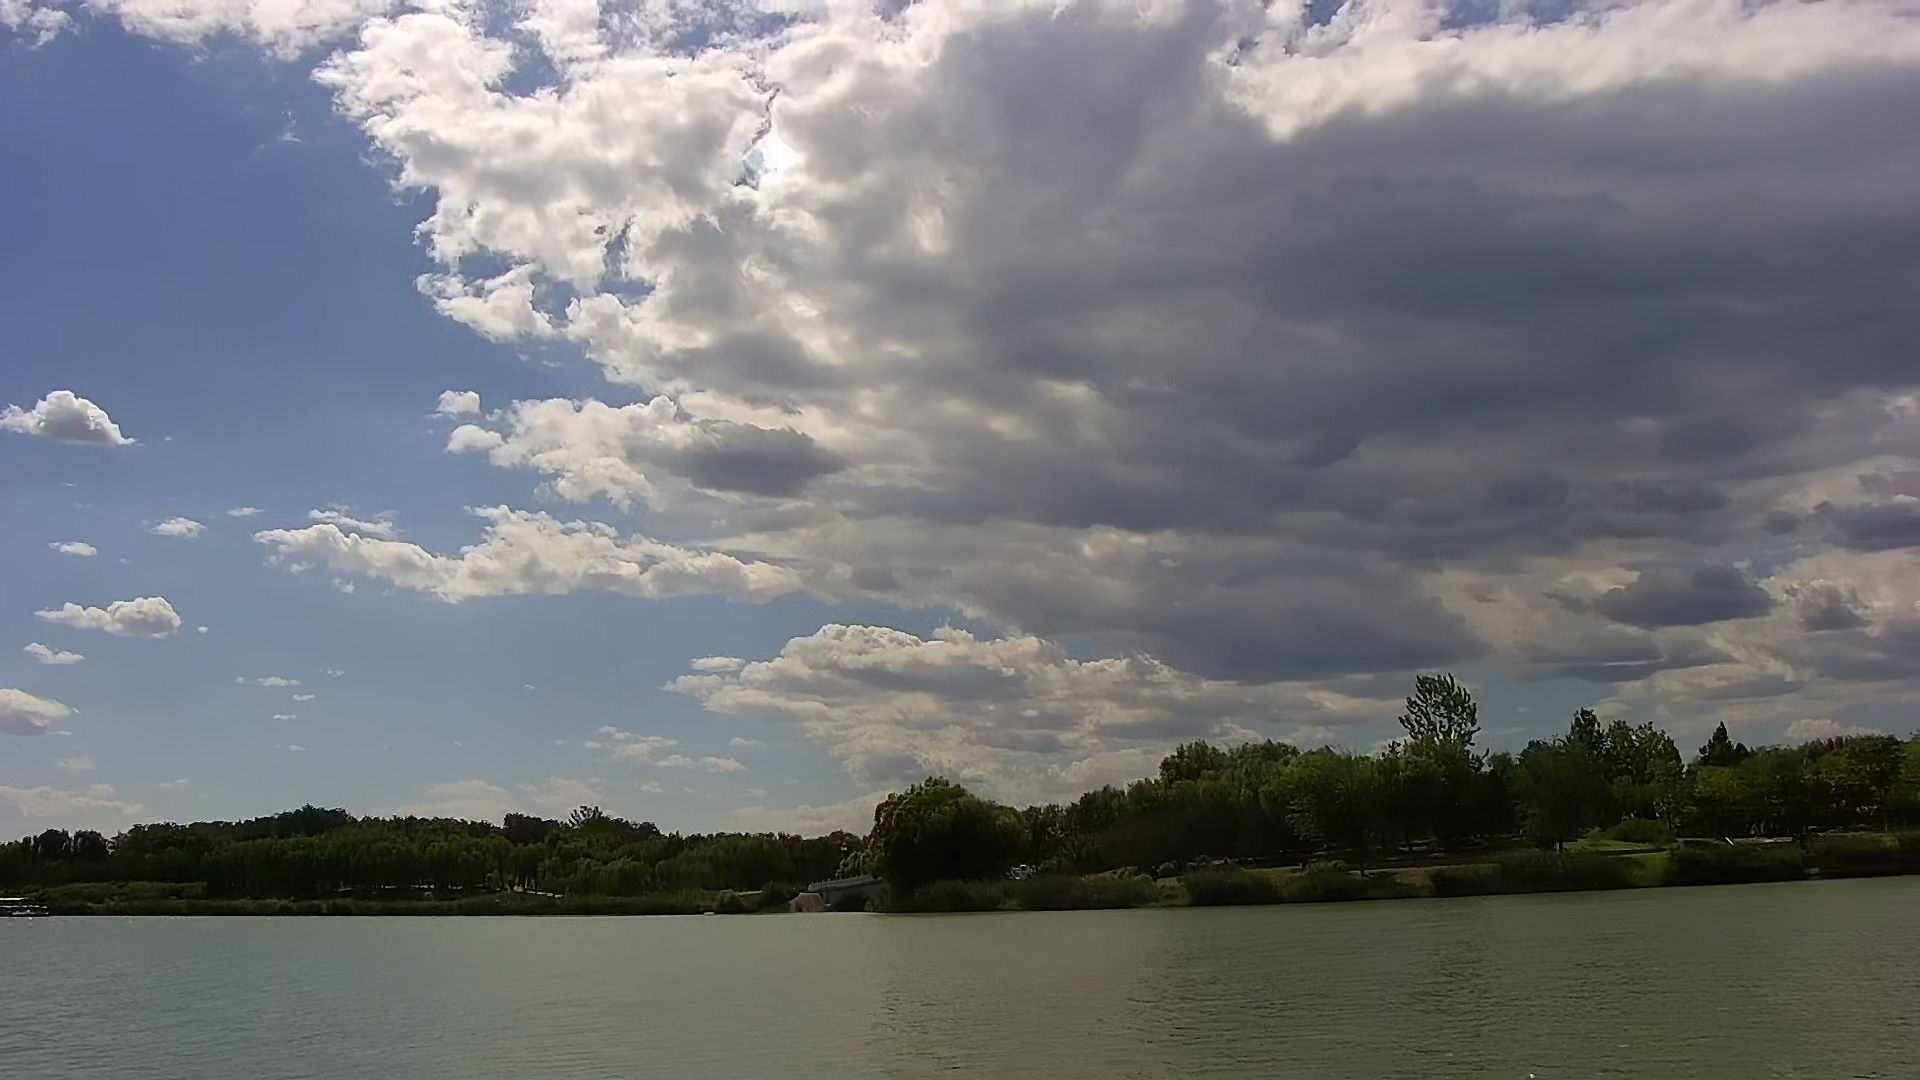harbor: (5, 895, 47, 919)
